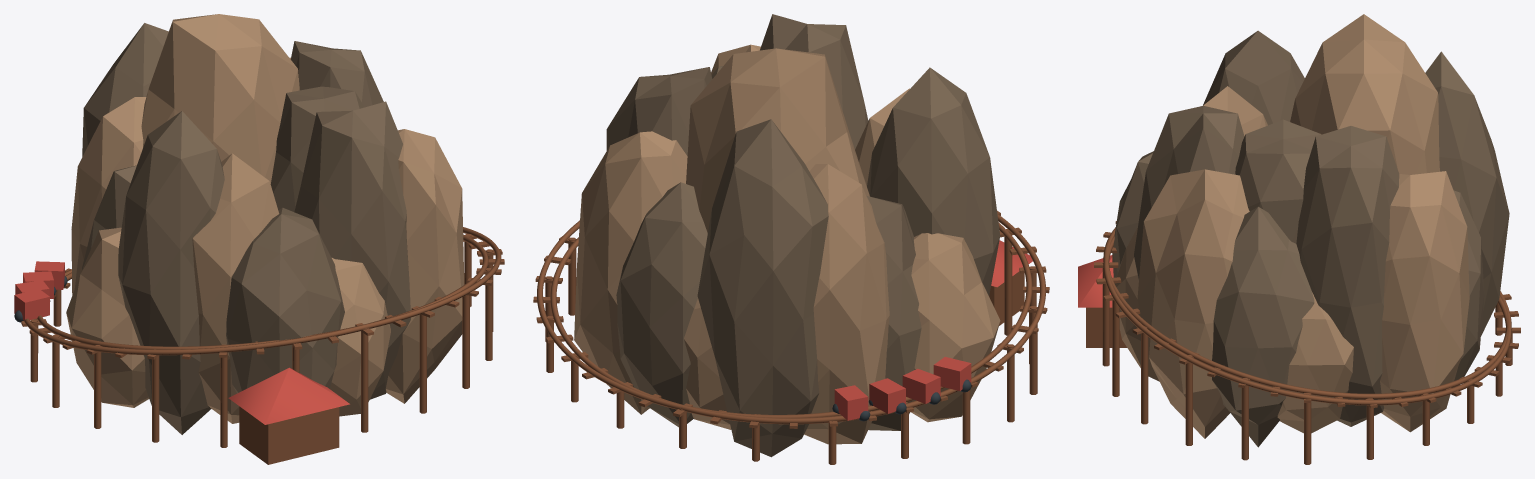
The model's file is mine.glb.
The picture shows the model from 3 angles, left to right: view 1: azimuth 30°, elevation 25°; view 2: azimuth 150°, elevation 25°; view 3: azimuth 270°, elevation 25°; orthographic projection. The views are drawn at different scales.
Size of the model in its own units: 6.1 by 4.88 by 5.5.
